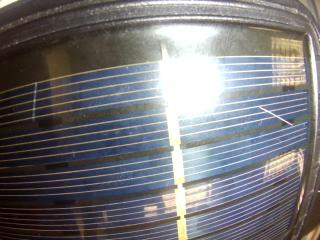crack: (260, 106, 293, 126), (32, 83, 36, 121)
solarboard: (0, 24, 316, 240)
